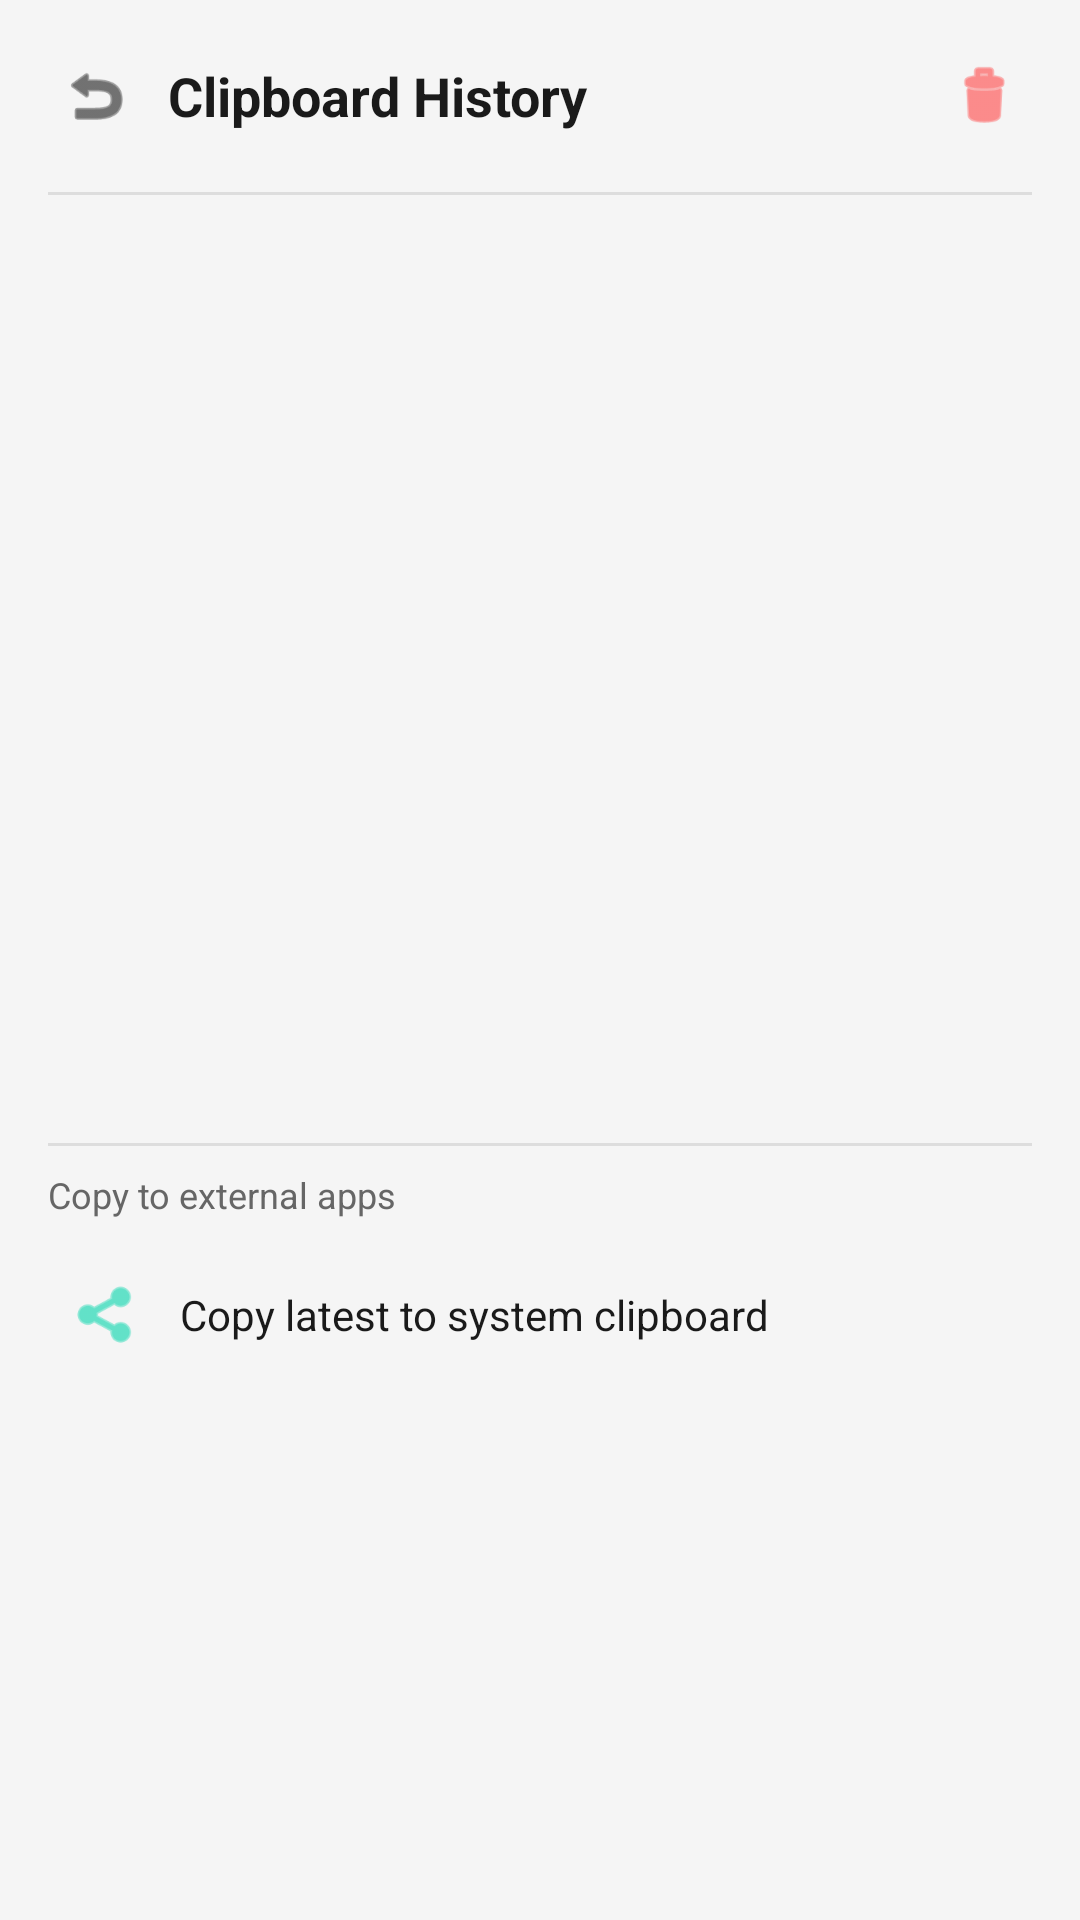

Named icons in this screenshot (1080*1920) and their bounding boxes, (x1, y1, x2, y2):
delete: (964, 67, 1005, 123)
revert: (71, 73, 123, 120)
share: (77, 1286, 131, 1343)
